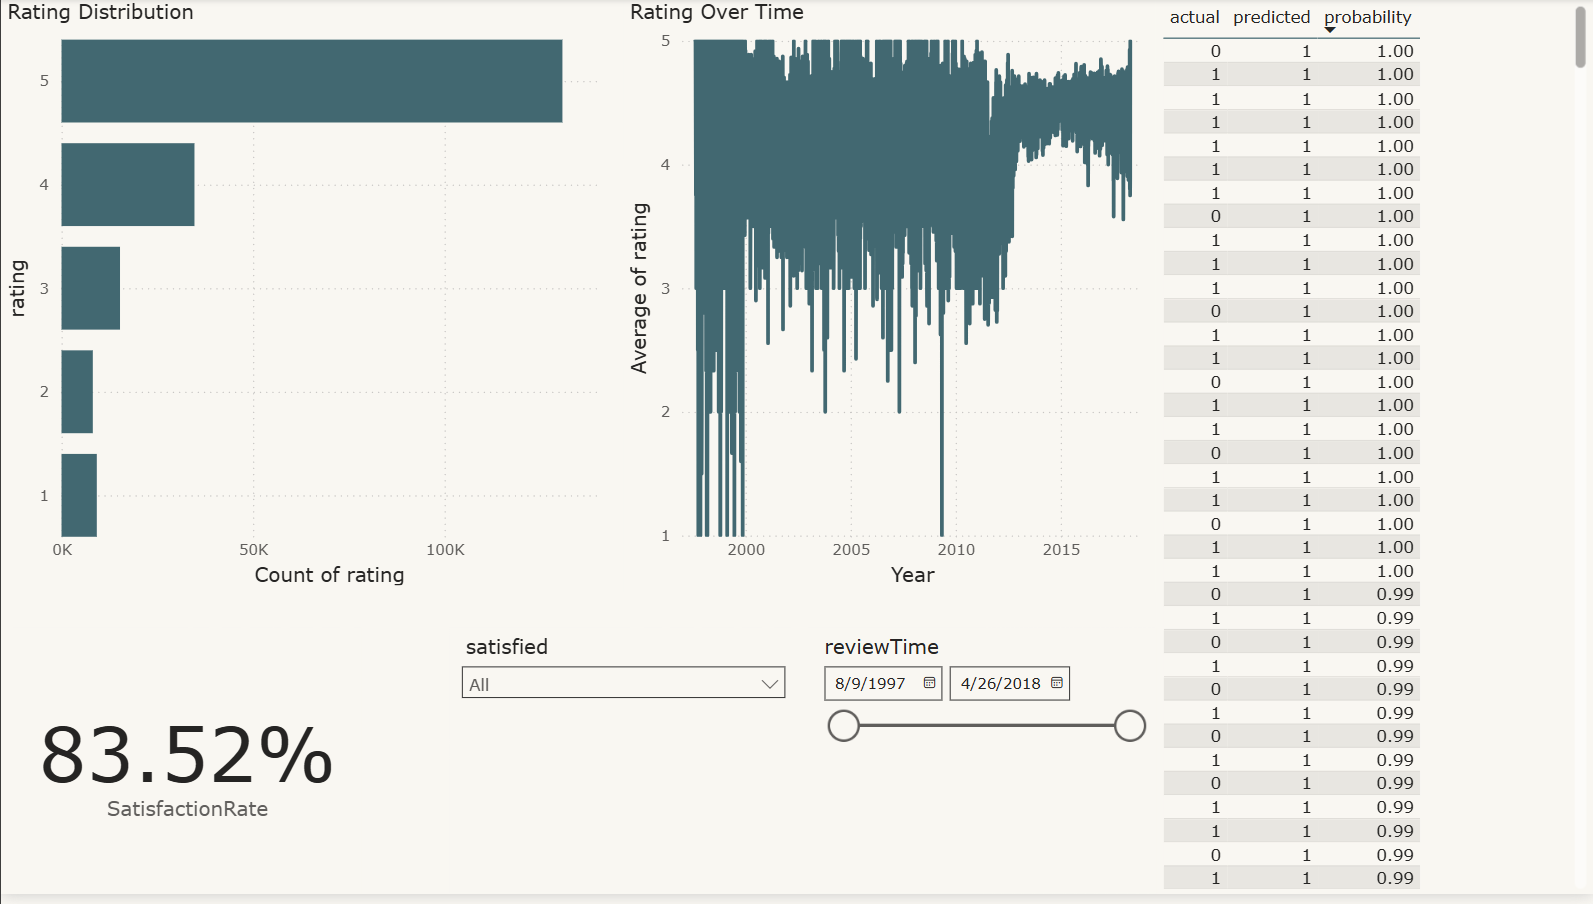

What the dashboard file says about the page in this screenshot:
{"tool":"powerbi","page":{"name":"Page 1","canvas":[1280,720],"ordinal":0},"visuals":[{"type":"clusteredBarChart","title":"Rating Distribution","fields":{"Y":["CountNonNull(ratings_Books_cleaned_200K.rating)"],"Category":["ratings_Books_cleaned_200K.rating"]},"box":[0,0,500.5,476.4],"z":0},{"type":"lineChart","title":"Rating Over Time","fields":{"Category":["ratings_Books_cleaned_200K.reviewTime.Variation.Date Hierarchy.Year","ratings_Books_cleaned_200K.reviewTime.Variation.Date Hierarchy.Quarter","ratings_Books_cleaned_200K.reviewTime.Variation.Date Hierarchy.Month","ratings_Books_cleaned_200K.reviewTime.Variation.Date Hierarchy.Day"],"Y":["Avg(ratings_Books_cleaned_200K.rating)"]},"box":[500.5,0,428.1,476.4],"z":1},{"type":"tableEx","fields":{"Values":["model_predictions_innovative.actual","model_predictions_innovative.predicted","model_predictions_innovative.probability"]},"box":[928.6,0,351,720],"z":2},{"type":"slicer","fields":{"Values":["ratings_Books_cleaned_200K.reviewTime"]},"box":[648.8,505.3,279.8,213.5],"z":3},{"type":"slicer","fields":{"Values":["ratings_Books_cleaned_200K.satisfied"]},"box":[360.6,505.3,279.8,213.5],"z":4},{"type":"card","fields":{"Values":["model_predictions_innovative.SatisfactionRate"]},"box":[9.6,505.3,279.8,214.7],"z":5}]}

Visuals, with their boxes in screenshot pixels (x1, y1, x2, y2), scaled from the page's 1280x720 canvas onto the 1593x904 screenshot:
"Rating Distribution" clusteredBarChart: 0:0:623:598
"Rating Over Time" lineChart: 623:0:1156:598
tableEx - model_predictions_innovative.actual x model_predictions_innovative.predicted: 1156:0:1592:903
slicer - ratings_Books_cleaned_200K.reviewTime: 807:634:1156:902
slicer - ratings_Books_cleaned_200K.satisfied: 449:634:797:902
card - model_predictions_innovative.SatisfactionRate: 12:634:360:903
